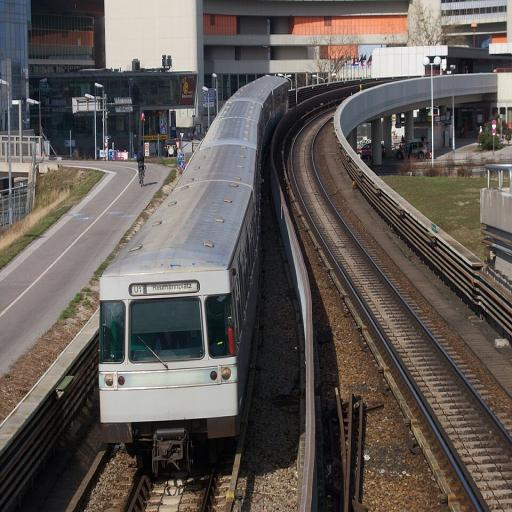Silberpfeil: (93, 72, 294, 474)
